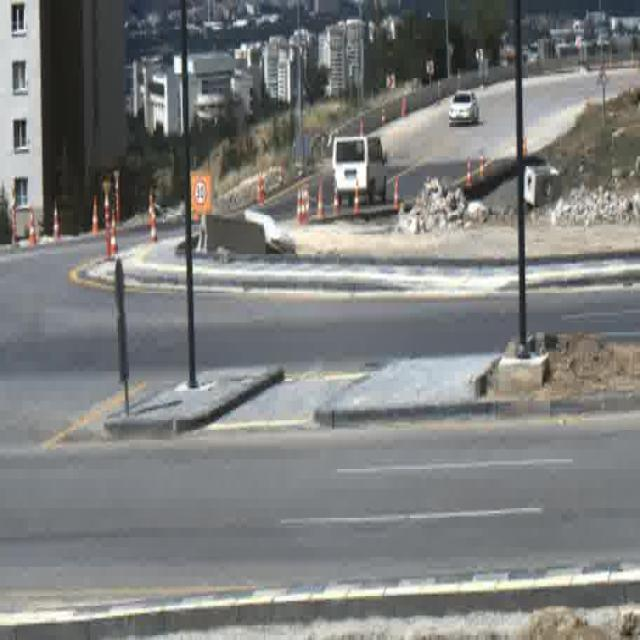Car: (333, 136, 387, 206), (448, 89, 479, 125)
